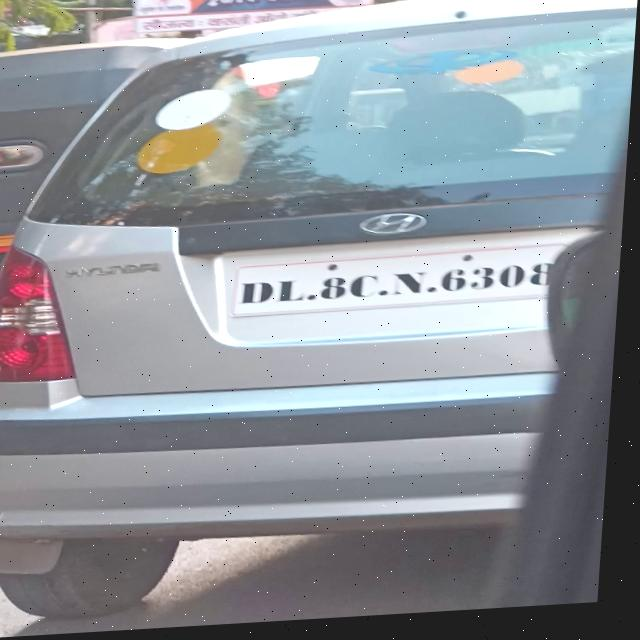plate: (230, 249, 573, 322)
